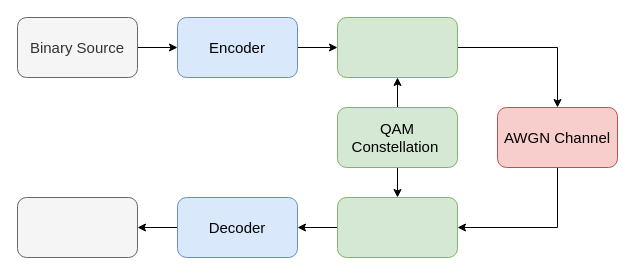
This 635x275 diagram has some shape labels left out. The shapes that lost their labels are listed below. From the top down, each one's centre as x and y in pixels, then its label:
At point (397, 47): "Mapper".
At point (77, 227): "Decoded Data".
At point (397, 227): "Demapper".
